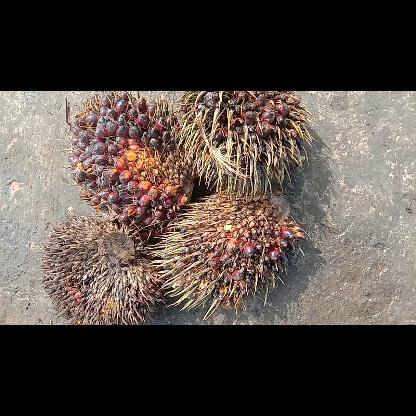Kurang masak: (182, 91, 312, 191)
TBS abnormal: (149, 187, 304, 313), (42, 216, 160, 324)
Terlalu masak: (65, 91, 195, 231)
